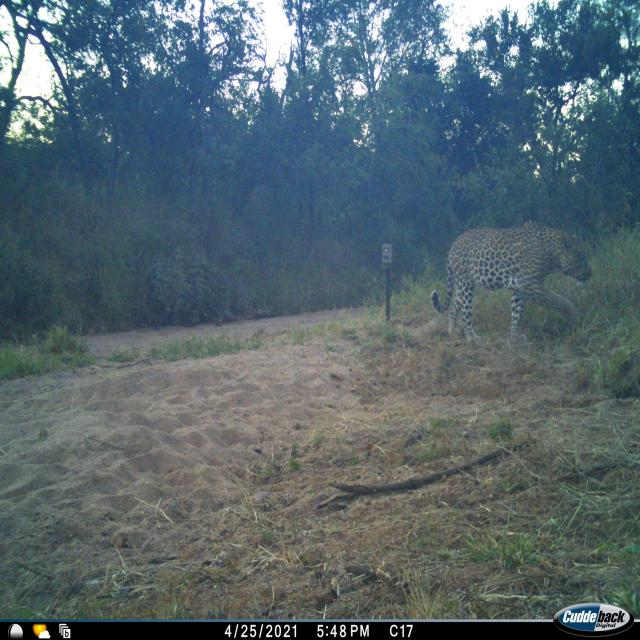Leopard: (423, 218, 597, 346)
